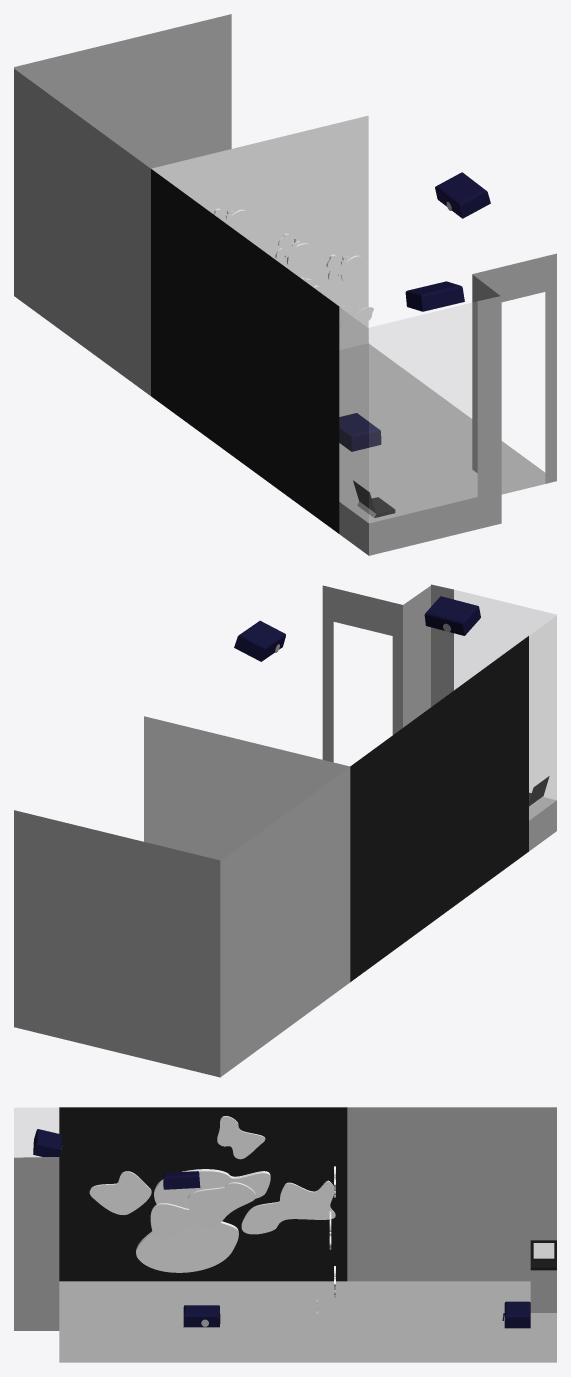
File: mockup-2.glb
3 renders of one model, top to bottom at view 1: azimuth 30°, elevation 25°; view 2: azimuth 150°, elevation 25°; view 3: azimuth 270°, elevation 25°, orthographic. The views are drawn at different scales.
Parts seen in each view (by area): view 1: Cube, glass front, door, Cube.002, Cube.006, Cube.003, mariposas.svg, Cube.005, mariposas.svg.004, mariposas.svg.003; view 2: Cube, door, glass front, Cube.006, Cube.002; view 3: Cube, door, SILUETA3.svg, SILUETA2.svg, SILUETA4.svg, SILUETA1.svg, glass front, SILUETA5.svg, Cube.003, Cube.004, Cube.001, Cube.006 (+1 smaller).
Part boxes in pixels (bbox=[...]): Cube: bbox=[14, 14, 545, 555]; glass front: bbox=[339, 302, 477, 522]; door: bbox=[472, 253, 556, 496]; Cube.002: bbox=[435, 172, 490, 218]; Cube.006: bbox=[405, 281, 464, 311]; Cube.003: bbox=[339, 413, 381, 451]; mariposas.svg: bbox=[275, 233, 311, 267]; Cube.005: bbox=[353, 480, 395, 517]; mariposas.svg.004: bbox=[339, 306, 373, 333]; mariposas.svg.003: bbox=[326, 255, 362, 282]; Cube: bbox=[14, 636, 556, 1077]; door: bbox=[322, 584, 453, 762]; glass front: bbox=[454, 590, 556, 819]; Cube.006: bbox=[424, 596, 480, 635]; Cube.002: bbox=[234, 620, 285, 661]; Cube: bbox=[14, 1107, 556, 1362]; door: bbox=[14, 1157, 59, 1306]; SILUETA3.svg: bbox=[136, 1169, 270, 1272]; SILUETA2.svg: bbox=[150, 1182, 255, 1239]; SILUETA4.svg: bbox=[241, 1180, 335, 1234]; SILUETA1.svg: bbox=[89, 1171, 151, 1215]; glass front: bbox=[14, 1108, 58, 1157]; SILUETA5.svg: bbox=[217, 1116, 265, 1159]; Cube.003: bbox=[183, 1305, 220, 1327]; Cube.004: bbox=[530, 1240, 556, 1270]; Cube.001: bbox=[502, 1301, 530, 1328]; Cube.006: bbox=[33, 1129, 62, 1156].
Bounding box in the file's own units: 4.04 × 4.27 × 11.31.
